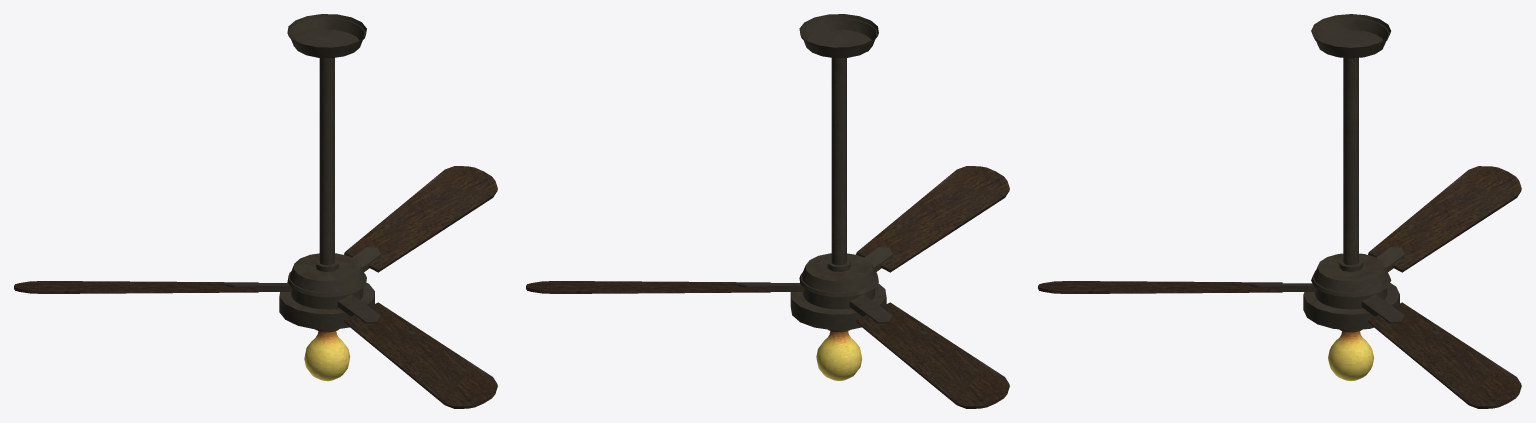
File: ceiling_fan_mp_1_1_light_on.obj
The picture shows the model from 3 angles, left to right: view 1: azimuth 30°, elevation 25°; view 2: azimuth 150°, elevation 25°; view 3: azimuth 270°, elevation 25°; orthographic projection.
Parts seen in each view (by area): view 1: ceiling_fan_mp_1_1_light_on_blades, ceiling_fan_mp_1_1_light_on; view 2: ceiling_fan_mp_1_1_light_on_blades, ceiling_fan_mp_1_1_light_on; view 3: ceiling_fan_mp_1_1_light_on_blades, ceiling_fan_mp_1_1_light_on.
Boxes of the visible parts, left/top/right/bottom form: ceiling_fan_mp_1_1_light_on_blades: left=14, top=166, right=497, bottom=408; ceiling_fan_mp_1_1_light_on: left=279, top=14, right=374, bottom=381; ceiling_fan_mp_1_1_light_on_blades: left=526, top=166, right=1009, bottom=408; ceiling_fan_mp_1_1_light_on: left=790, top=14, right=886, bottom=380; ceiling_fan_mp_1_1_light_on_blades: left=1038, top=166, right=1521, bottom=408; ceiling_fan_mp_1_1_light_on: left=1303, top=14, right=1399, bottom=380.
Bounding box in the file's own units: 1.02 × 0.7128 × 0.8979.
